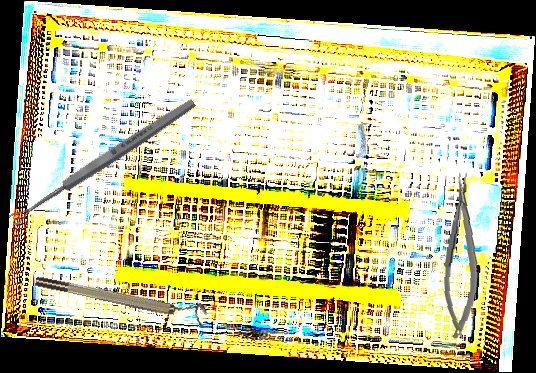Fixation Ring: (34, 266, 209, 328)
Needle Holder: (439, 172, 485, 340)
Surgical Spoon: (7, 96, 198, 227)
